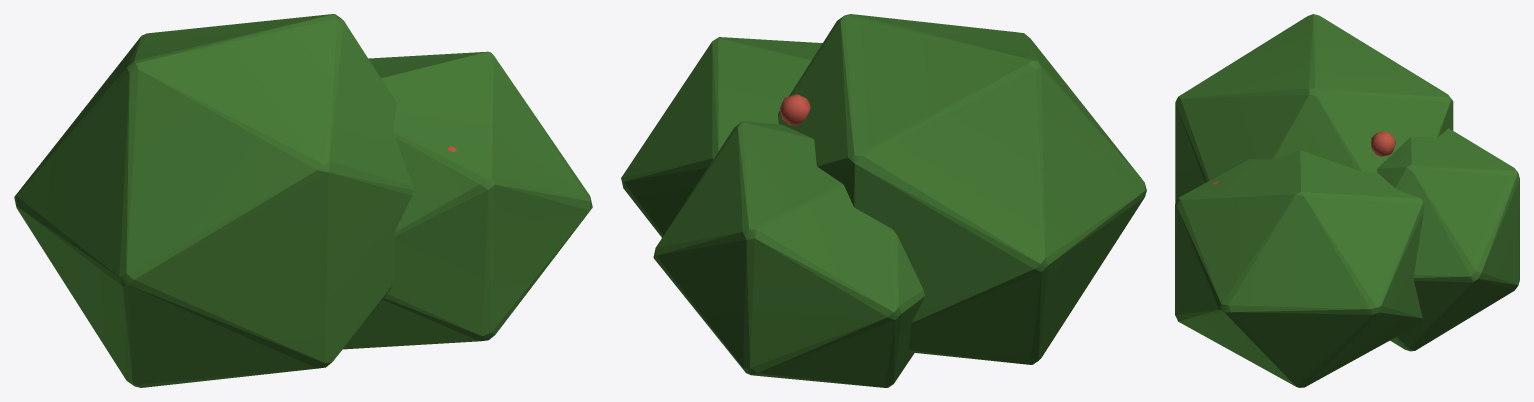
The model's file is prop_bushBerry_lod1.glb.
3 views of the same model, side by side, from view 1: azimuth 30°, elevation 25°; view 2: azimuth 150°, elevation 25°; view 3: azimuth 270°, elevation 25° (orthographic). The views are drawn at different scales.
Parts seen in each view (by area): view 1: prop_bushBerry_lod1; view 2: prop_bushBerry_lod1; view 3: prop_bushBerry_lod1.
Part boxes in pixels (x1,y1,x2,y2): prop_bushBerry_lod1: [14, 14, 592, 387]; prop_bushBerry_lod1: [621, 14, 1146, 387]; prop_bushBerry_lod1: [1175, 14, 1519, 387].
Bounding box in the file's own units: 1.78 × 1.18 × 1.5.
